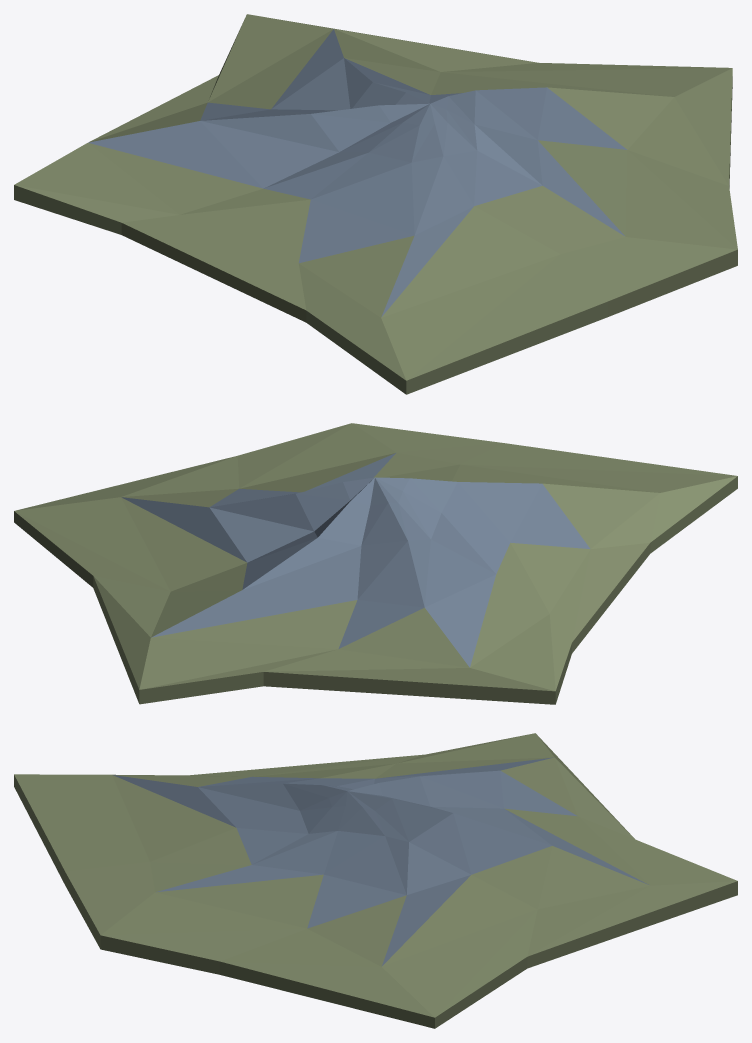
File: massif_east_foothill.glb
3 renders of one model, top to bottom at view 1: azimuth 30°, elevation 25°; view 2: azimuth 150°, elevation 25°; view 3: azimuth 270°, elevation 25°, orthographic. The views are drawn at different scales.
Parts seen in each view (by area): view 1: massif_east_foothill; view 2: massif_east_foothill; view 3: massif_east_foothill.
Part boxes in pixels (bbox=[...]): massif_east_foothill: bbox=[14, 14, 737, 394]; massif_east_foothill: bbox=[14, 423, 737, 704]; massif_east_foothill: bbox=[14, 733, 737, 1028].
Size of the model in its own units: 664 by 95.43 by 719.
